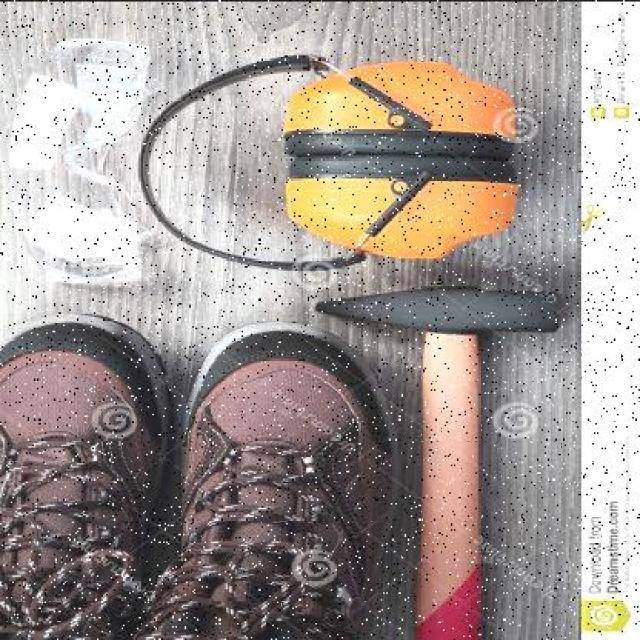shoes: (137, 324, 411, 640), (0, 309, 171, 640)
